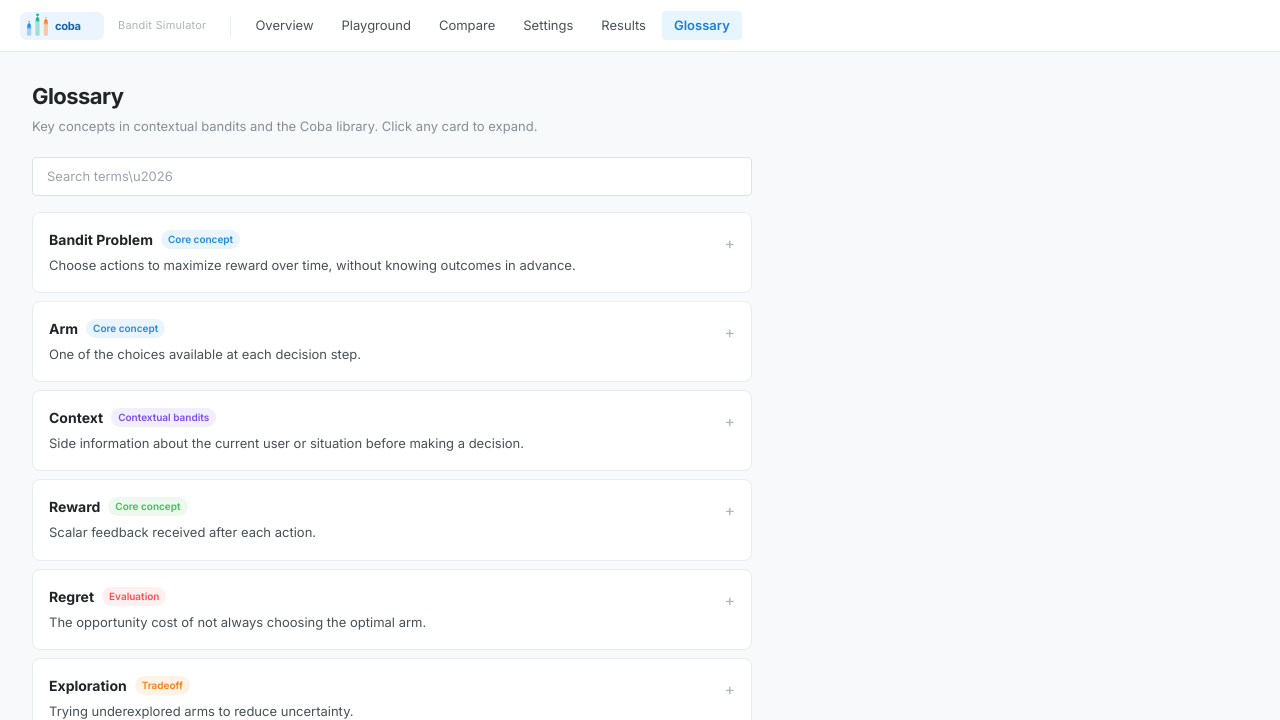
Test: GlossaryPage › filters terms when searching
Type "thompson" into the field with placeholder "Search terms\\u2026".
click(392, 176); type("thompson")  # box [32,156,752,196]
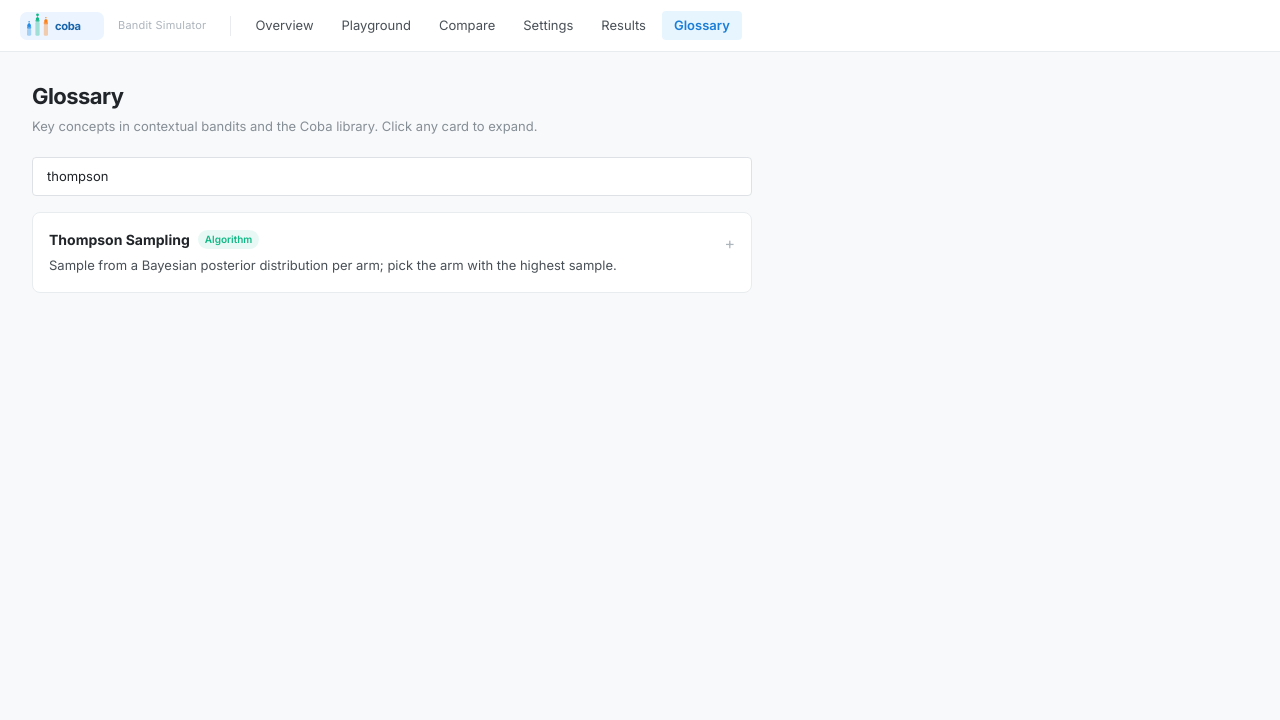
Result: the text "Thompson Sampling" is shown at [49,229,190,250]
Result: the text "Bandit Problem" is gone
